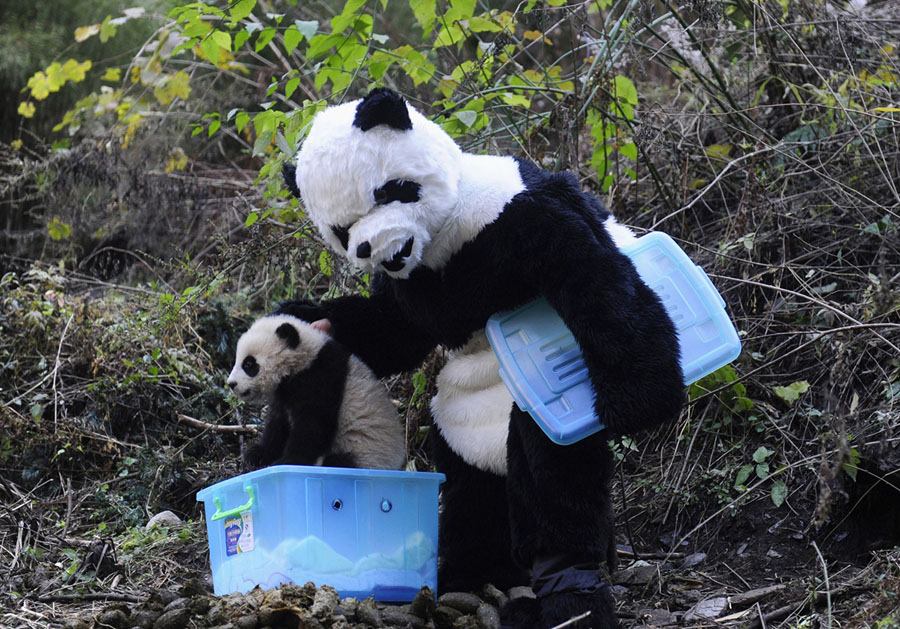panda: (210, 303, 410, 481)
